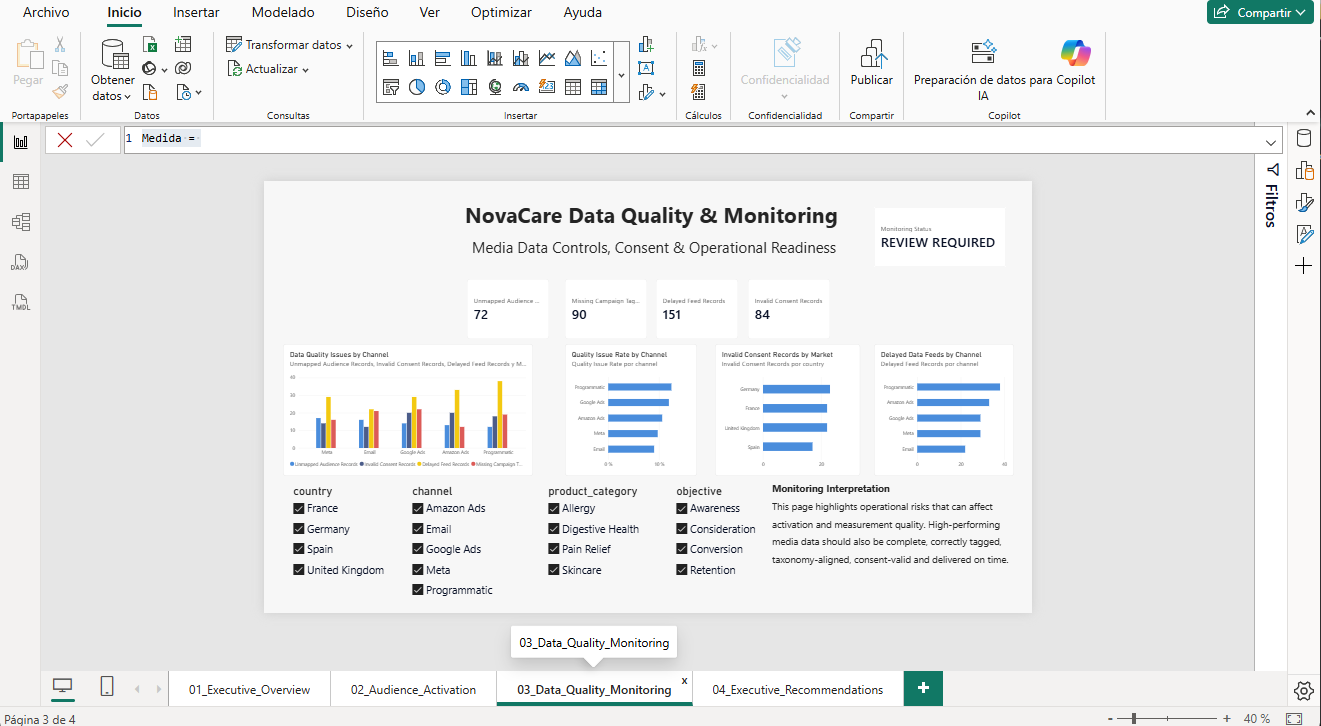

This screenshot's page, from the dashboard's own definition file:
{"tool":"powerbi","page":{"name":"03_Data_Quality_Monitoring","canvas":[1920,1080],"ordinal":2},"visuals":[{"type":"textbox","box":[10,0,280,280],"z":0},{"type":"textbox","box":[10,290,280,280],"z":1000},{"type":"textbox","box":[502.5,47.5,1090,92.5],"z":2000},{"type":"textbox","box":[520,140,1197.5,65],"z":3000},{"type":"cardVisual","fields":{"Data":["Measuredata.Unmapped Audience Records"]},"box":[507.5,245,205,150],"z":4000},{"type":"cardVisual","fields":{"Data":["Measuredata.Missing Campaign Tag Records"]},"box":[752.5,245,205,150],"z":5000},{"type":"cardVisual","fields":{"Data":["Measuredata.Delayed Feed Records"]},"box":[980,245,205,150],"z":6000},{"type":"cardVisual","fields":{"Data":["Measuredata.Invalid Consent Records"]},"box":[1210,245,205,150],"z":7000},{"type":"clusteredColumnChart","title":"Data Quality Issues by Channel","fields":{"Category":["novacare_media_performance.channel"],"Y":["Measuredata.Unmapped Audience Records","Measuredata.Invalid Consent Records","Measuredata.Delayed Feed Records","Measuredata.Missing Campaign Tag Records"]},"box":[47.5,407.5,625,330],"z":8000},{"type":"clusteredBarChart","title":"Quality Issue Rate by Channel","fields":{"Category":["novacare_media_performance.channel"],"Y":["Measuredata.Quality Issue Rate"]},"box":[752.5,407.5,330,330],"z":9000},{"type":"clusteredBarChart","title":"Invalid Consent Records by Market","fields":{"Category":["novacare_media_performance.country"],"Y":["Measuredata.Invalid Consent Records"]},"box":[1127.5,407.5,362.5,330],"z":10000},{"type":"clusteredBarChart","title":"Delayed Data Feeds by Channel","fields":{"Category":["novacare_media_performance.channel"],"Y":["Measuredata.Delayed Feed Records"]},"box":[1525,407.5,350,330],"z":11000},{"type":"slicer","fields":{"Values":["novacare_media_performance.country"]},"box":[65,757.5,375,255],"z":12000},{"type":"slicer","fields":{"Values":["novacare_media_performance.channel"]},"box":[362.5,757.5,367.5,295],"z":13000},{"type":"slicer","fields":{"Values":["novacare_campaign_metadata.product_category"]},"box":[702.5,757.5,375,250],"z":14000},{"type":"slicer","fields":{"Values":["novacare_campaign_metadata.objective"]},"box":[1022.5,757.5,372.5,255],"z":15000},{"type":"textbox","box":[1270,742.5,605,322.5],"z":16000},{"type":"cardVisual","fields":{"Data":["Measuredata.Monitoring Status"]},"box":[1525,65,330,150],"z":17000}]}

Visuals, with their boxes on the page's 1920x1080 design canvas (x1, y1, x2, y2). These are canvas units, not pixel positions in the 1321x726 screenshot, which may show the page scaled, cropped or inside an application window:
textbox: crop(10, 0, 290, 280)
textbox: crop(10, 290, 290, 570)
textbox: crop(502, 48, 1592, 140)
textbox: crop(520, 140, 1718, 205)
cardVisual - Measuredata.Unmapped Audience Records: crop(508, 245, 712, 395)
cardVisual - Measuredata.Missing Campaign Tag Records: crop(752, 245, 958, 395)
cardVisual - Measuredata.Delayed Feed Records: crop(980, 245, 1185, 395)
cardVisual - Measuredata.Invalid Consent Records: crop(1210, 245, 1415, 395)
"Data Quality Issues by Channel" clusteredColumnChart: crop(48, 408, 672, 738)
"Quality Issue Rate by Channel" clusteredBarChart: crop(752, 408, 1082, 738)
"Invalid Consent Records by Market" clusteredBarChart: crop(1128, 408, 1490, 738)
"Delayed Data Feeds by Channel" clusteredBarChart: crop(1525, 408, 1875, 738)
slicer - novacare_media_performance.country: crop(65, 758, 440, 1012)
slicer - novacare_media_performance.channel: crop(362, 758, 730, 1052)
slicer - novacare_campaign_metadata.product_category: crop(702, 758, 1078, 1008)
slicer - novacare_campaign_metadata.objective: crop(1022, 758, 1395, 1012)
textbox: crop(1270, 742, 1875, 1065)
cardVisual - Measuredata.Monitoring Status: crop(1525, 65, 1855, 215)
